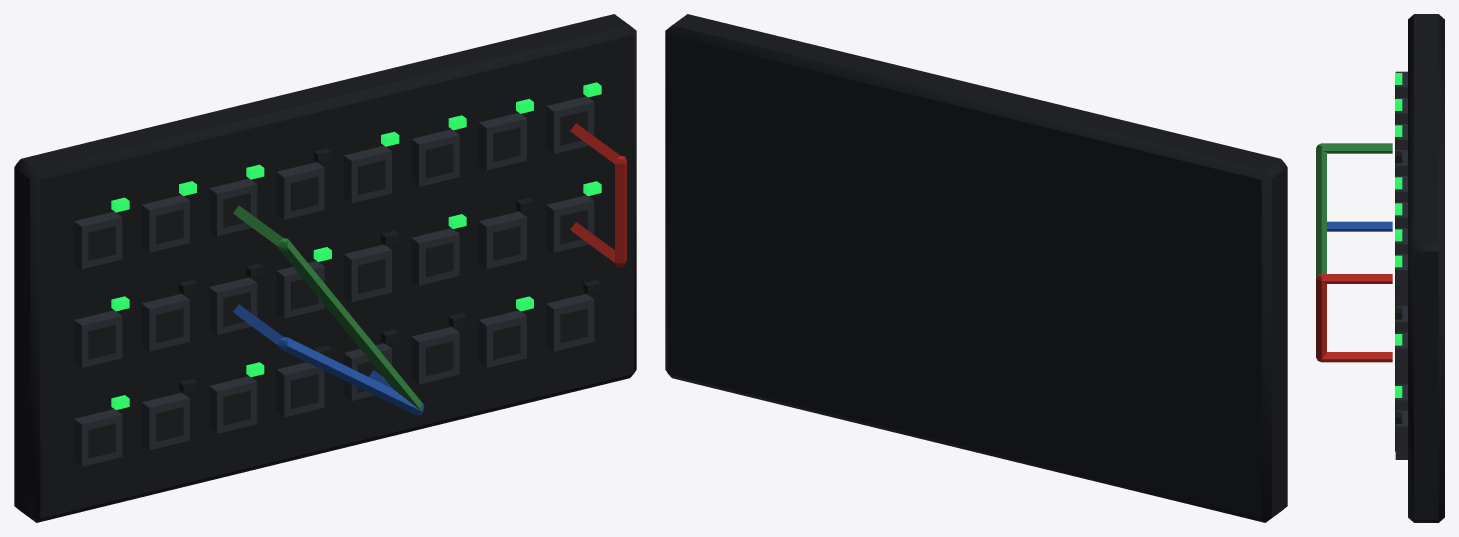
File: junction_patch_panel.glb
3 views of the same model, side by side, from view 1: azimuth 30°, elevation 25°; view 2: azimuth 150°, elevation 25°; view 3: azimuth 270°, elevation 25° (orthographic). The views are drawn at different scales.
Parts seen in each view (by area): view 1: junction_patch_panel; view 2: junction_patch_panel; view 3: junction_patch_panel.
Part boxes in pixels (x1=…): junction_patch_panel: x1=14, y1=14, x2=636, y2=522; junction_patch_panel: x1=665, y1=14, x2=1287, y2=522; junction_patch_panel: x1=1316, y1=14, x2=1444, y2=522.
Bounding box in the file's own units: 0.9 × 0.5 × 0.209.
